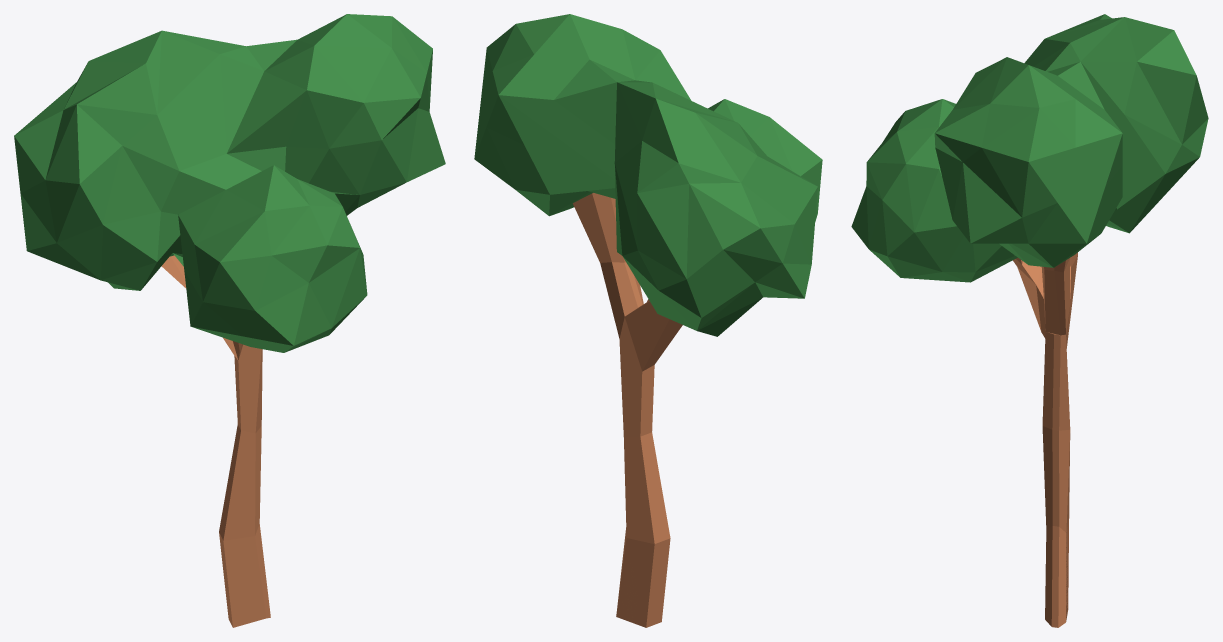
The model's file is Baum 1.fbx.
3 renders of one model, left to right at view 1: azimuth 30°, elevation 25°; view 2: azimuth 150°, elevation 25°; view 3: azimuth 270°, elevation 25°, orthographic. The views are drawn at different scales.
Visible parts, largest first — view 1: Baum; view 2: Baum; view 3: Baum.
Boxes of the visible parts, x1,y1,x2,y2 form: Baum: (14,14,445,627); Baum: (474,14,822,627); Baum: (851,14,1208,627).
Bounding box in the file's own units: 6.35 × 9.85 × 5.37.
